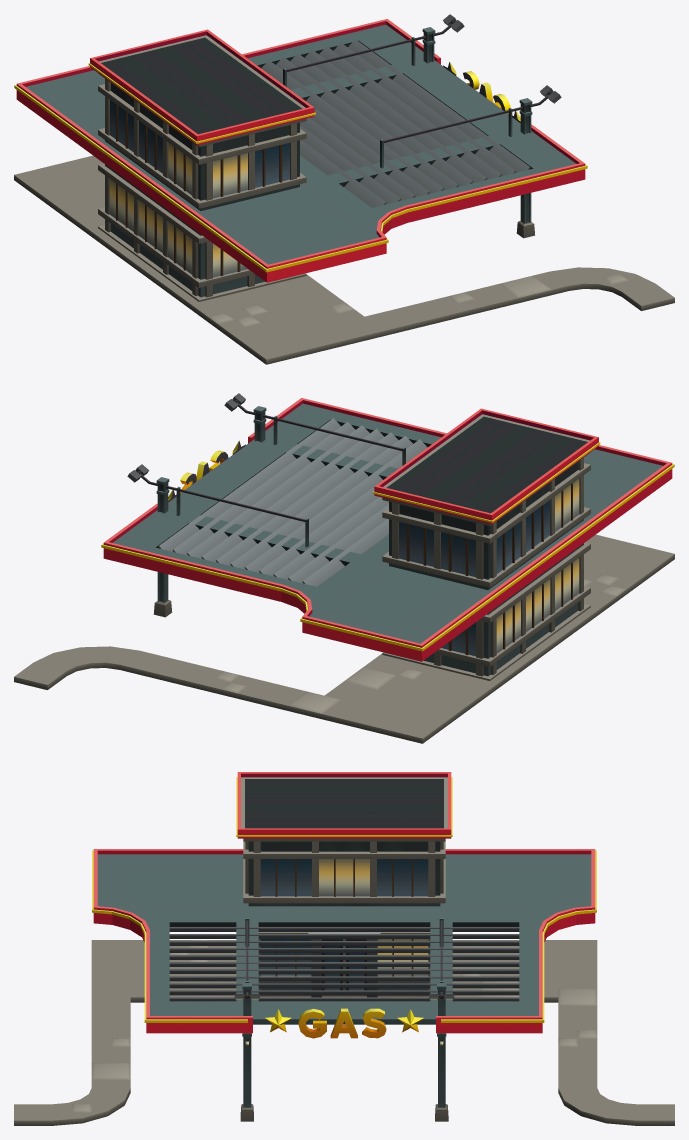
Rendered from gas1.FBX.
The picture shows the model from 3 angles, top to bottom: view 1: azimuth 30°, elevation 25°; view 2: azimuth 150°, elevation 25°; view 3: azimuth 270°, elevation 25°; orthographic projection.
Visible parts, largest first — view 1: Gas_Station_2A_Window_Lights; view 2: Gas_Station_2A_Window_Lights; view 3: Gas_Station_2A_Window_Lights.
Boxes of the visible parts, box(x1,y1,x2,y2) form: Gas_Station_2A_Window_Lights: box(14, 14, 674, 364); Gas_Station_2A_Window_Lights: box(14, 393, 674, 743); Gas_Station_2A_Window_Lights: box(14, 772, 674, 1125).
Bounding box in the file's own units: 866 × 410 × 1339.
